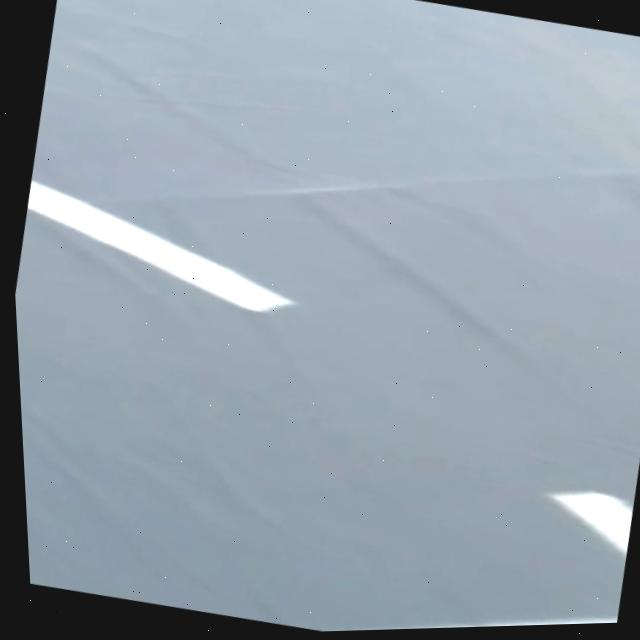center: (27, 181, 293, 312), (548, 494, 633, 559)
